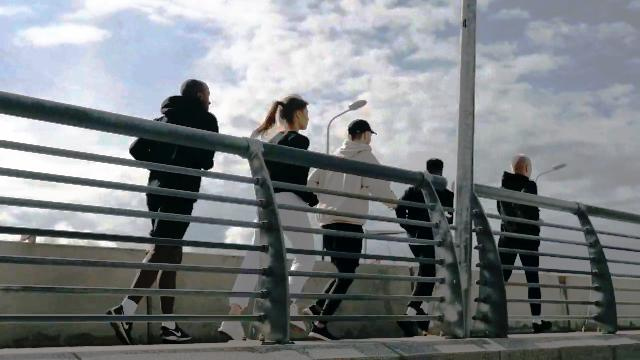berlari: (103, 80, 217, 344), (222, 96, 320, 344), (309, 118, 397, 340), (487, 154, 551, 336), (394, 162, 458, 338)
